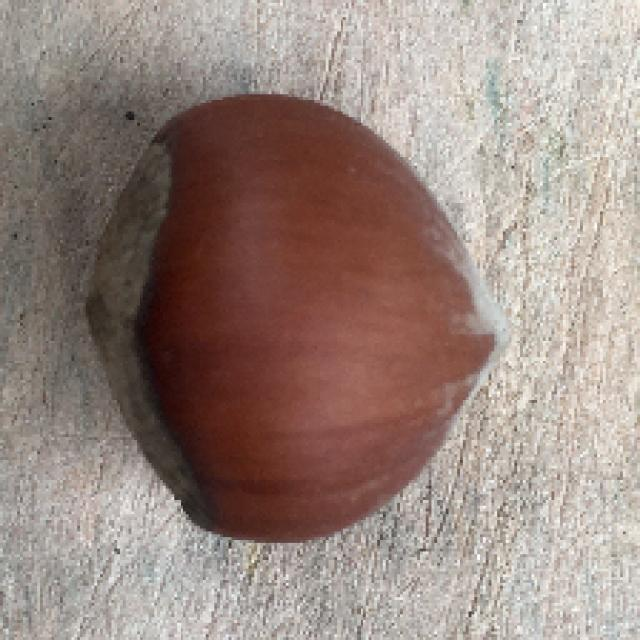qualityHazelnut: (83, 86, 507, 545)
